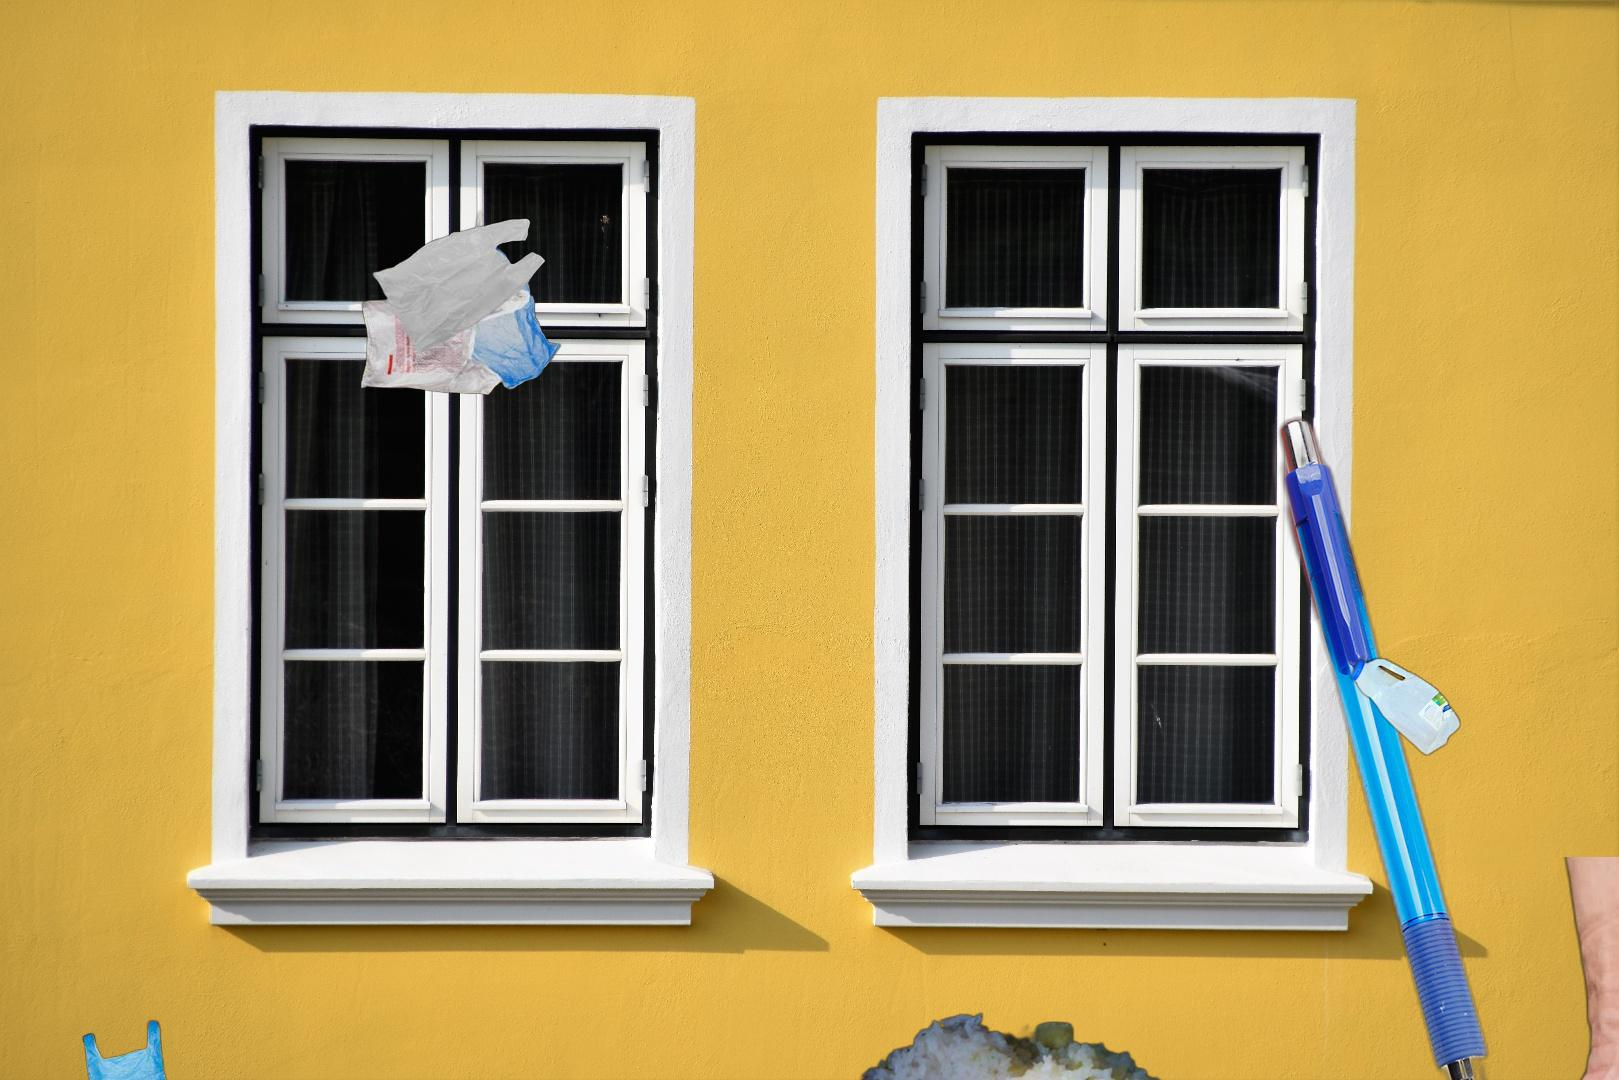biological: (803, 1009, 1215, 1080)
penholder: (1271, 410, 1506, 1080)
plastic-bag: (357, 209, 564, 398), (80, 1017, 180, 1080)
plastic-bottles: (1347, 652, 1465, 762)
trashbox-cardboard: (1216, 857, 1619, 1080)
